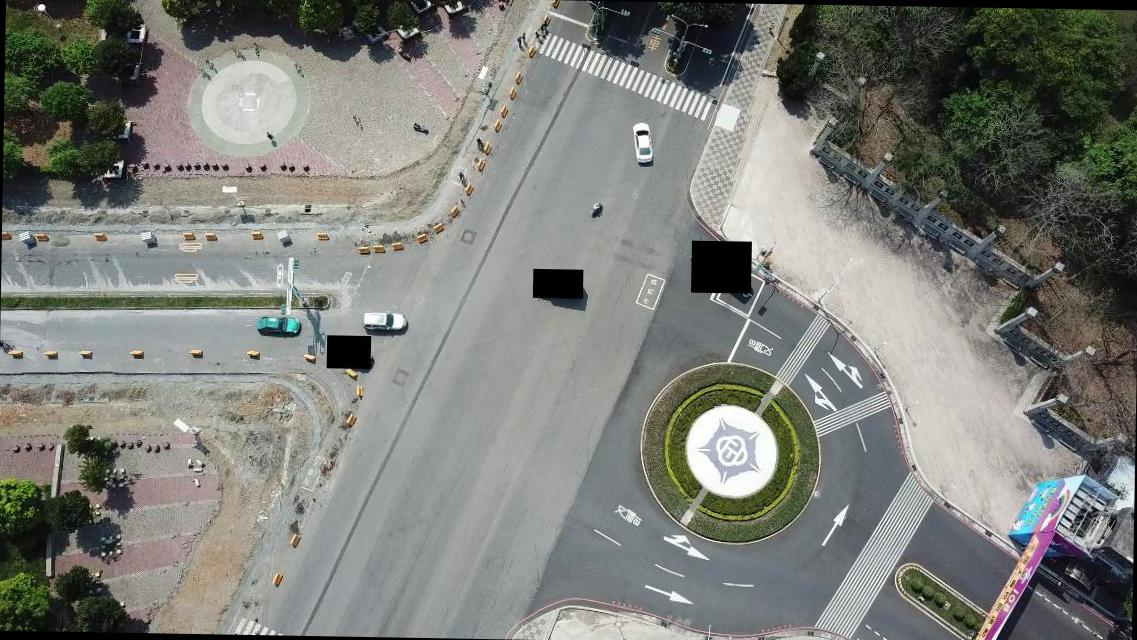vehicle: (257, 314, 302, 336), (630, 122, 653, 164), (363, 310, 406, 332)
